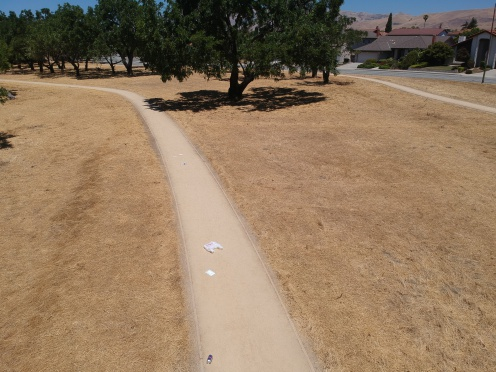can: (203, 352, 216, 366)
plastic bag: (199, 238, 223, 253)
